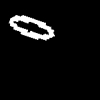chain: (9, 15, 54, 39)
